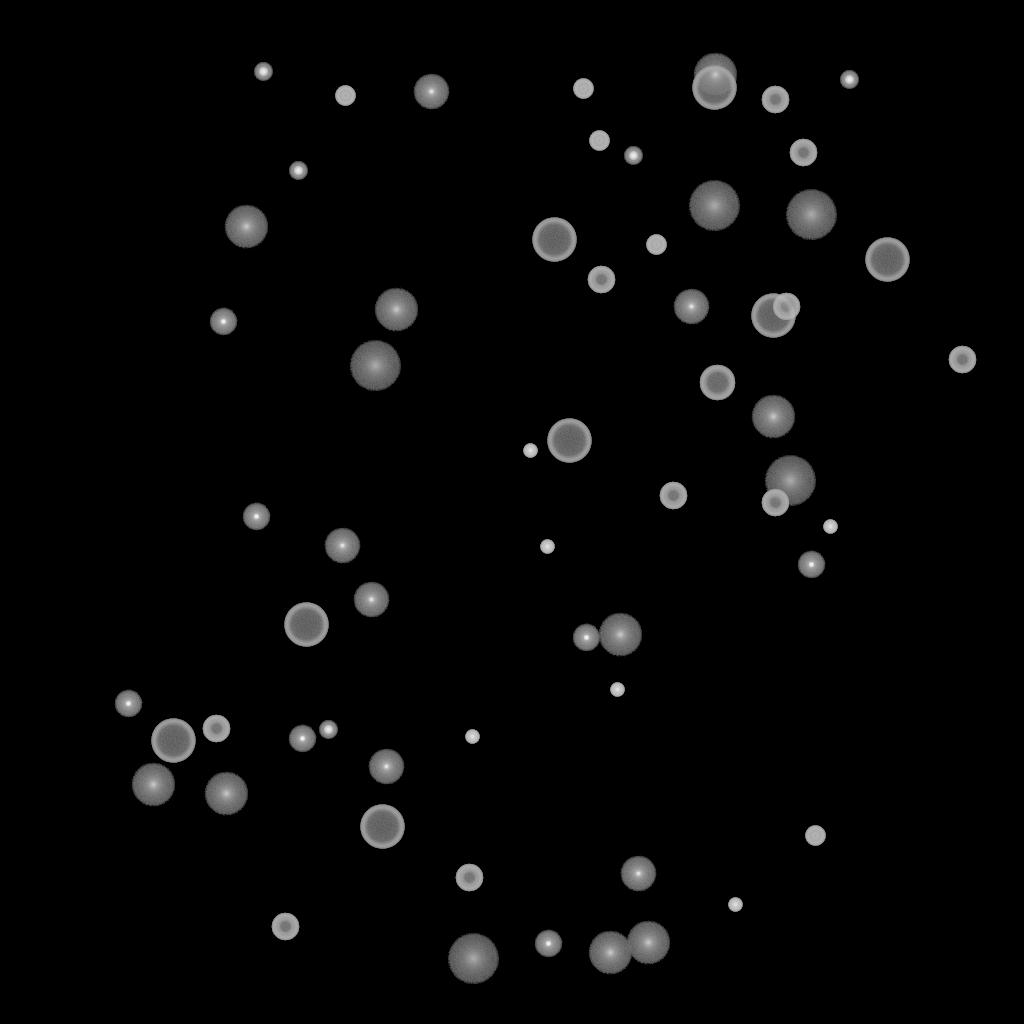depth:-10: (572, 624, 600, 652), (242, 503, 270, 531), (797, 551, 825, 579), (534, 930, 562, 958), (288, 725, 316, 753), (114, 690, 142, 718), (209, 308, 237, 336)
depth:-20: (289, 162, 307, 180), (319, 721, 337, 739), (254, 63, 272, 81), (624, 147, 642, 165), (840, 71, 858, 89)
depth:-30: (728, 898, 742, 912), (823, 520, 837, 534), (523, 444, 537, 458), (465, 730, 479, 744), (610, 683, 624, 697), (540, 540, 554, 554)
depth:-40: (646, 235, 666, 255), (335, 86, 355, 106), (805, 826, 825, 846), (589, 131, 609, 151), (573, 79, 593, 99)
depth:-50: (455, 864, 483, 892), (761, 489, 789, 517), (948, 346, 976, 374), (587, 266, 615, 294), (202, 715, 230, 743), (271, 913, 299, 941), (789, 139, 817, 167), (761, 86, 789, 114), (659, 482, 687, 510), (772, 293, 800, 321)
depth:-60: (699, 365, 735, 401)
depth:-70: (360, 805, 404, 849), (692, 66, 736, 110), (284, 603, 328, 647), (751, 294, 795, 338), (865, 238, 909, 282), (532, 218, 576, 262), (151, 719, 195, 763), (547, 419, 591, 463)
depth:0: (324, 528, 360, 564), (368, 749, 404, 785), (353, 582, 389, 618), (620, 856, 656, 892), (413, 74, 449, 110), (673, 289, 709, 325)
depth:10: (224, 205, 268, 249), (693, 53, 737, 97), (204, 772, 248, 816), (588, 931, 632, 975), (598, 613, 642, 657), (751, 395, 795, 439), (374, 288, 418, 332), (131, 763, 175, 807), (626, 921, 670, 965)
depth:20: (688, 181, 740, 231), (349, 341, 401, 391), (447, 934, 499, 984), (764, 456, 816, 506), (785, 190, 837, 240)
